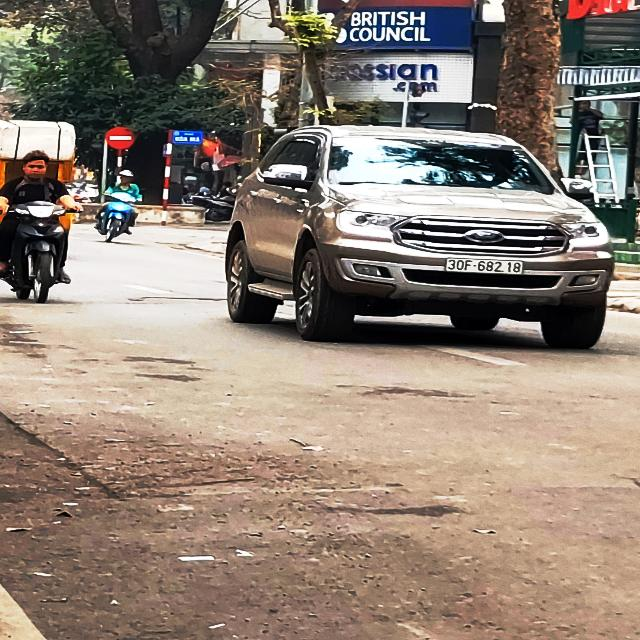license_plate: (448, 259, 524, 276)
